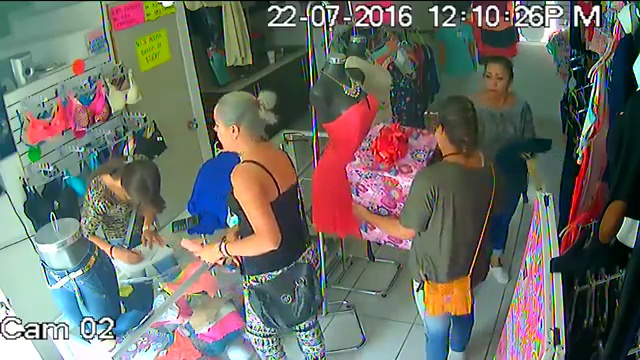face: (484, 65, 509, 95)
